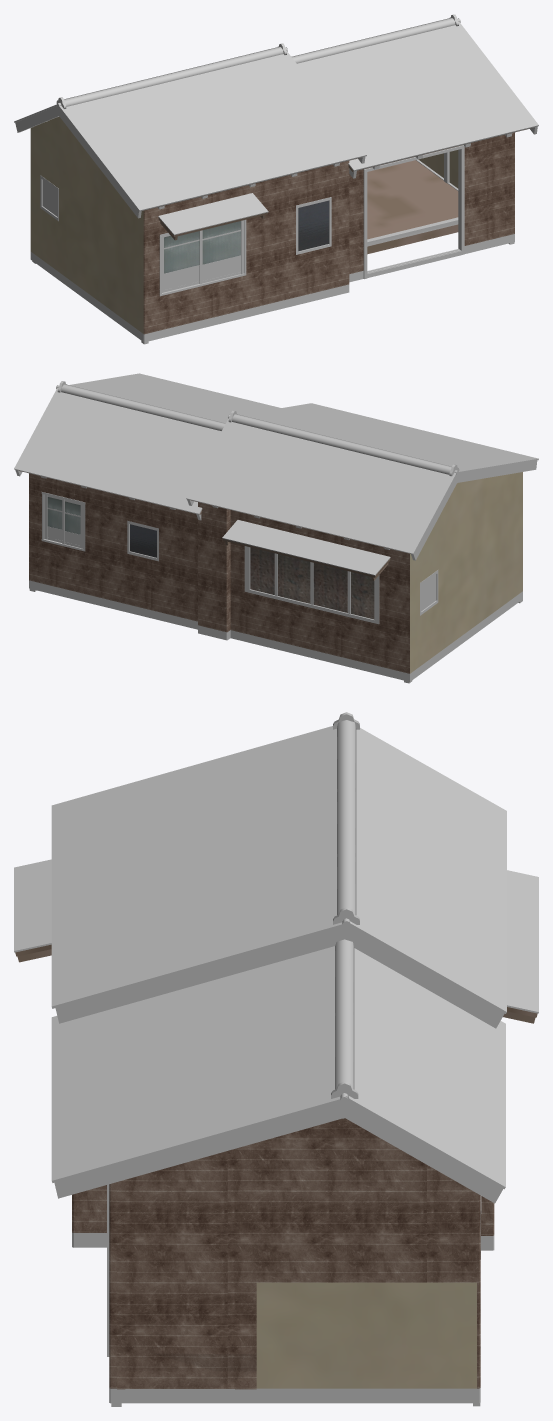
The model's file is JpHouse_01ak.fbx.
3 renders of one model, top to bottom at view 1: azimuth 30°, elevation 25°; view 2: azimuth 150°, elevation 25°; view 3: azimuth 270°, elevation 25°, orthographic. The views are drawn at different scales.
Parts seen in each view (by area): view 1: JpHouse_01ak; view 2: JpHouse_01ak; view 3: JpHouse_01ak.
Boxes of the visible parts, x1,y1,x2,y2 form: JpHouse_01ak: (14, 14, 538, 344); JpHouse_01ak: (14, 373, 538, 683); JpHouse_01ak: (14, 712, 538, 1406).
Bounding box in the file's own units: 10.32 × 4.75 × 6.45.
